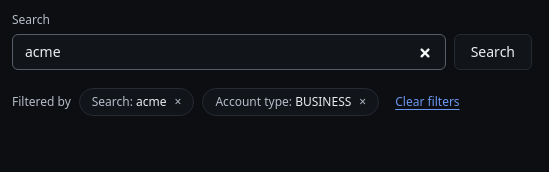
Test: Toolbar search › clears search and declared filters without discarding sort or page size
Click the button "Clear filters" at (427, 102), box [387,82,468,122]
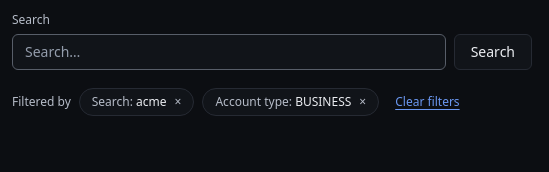
Check: the search field is empty, box [12,34,446,70]
